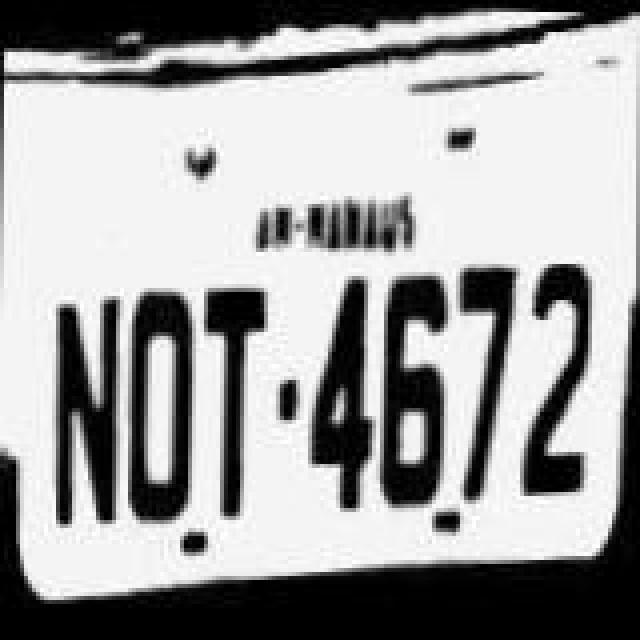2: (522, 252, 610, 504)
4: (306, 268, 382, 516)
6: (374, 268, 450, 512)
7: (448, 250, 524, 510)
N: (44, 286, 124, 542)
O: (120, 280, 200, 528)
T: (196, 278, 276, 522)
